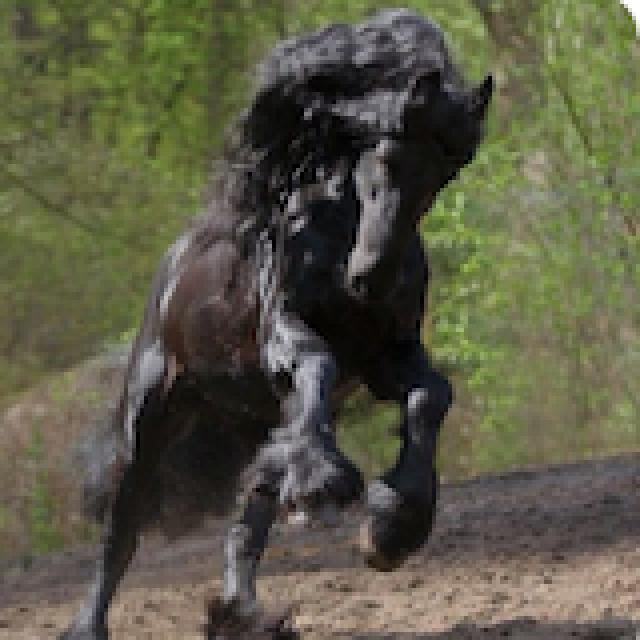Horse: (44, 4, 500, 636)
